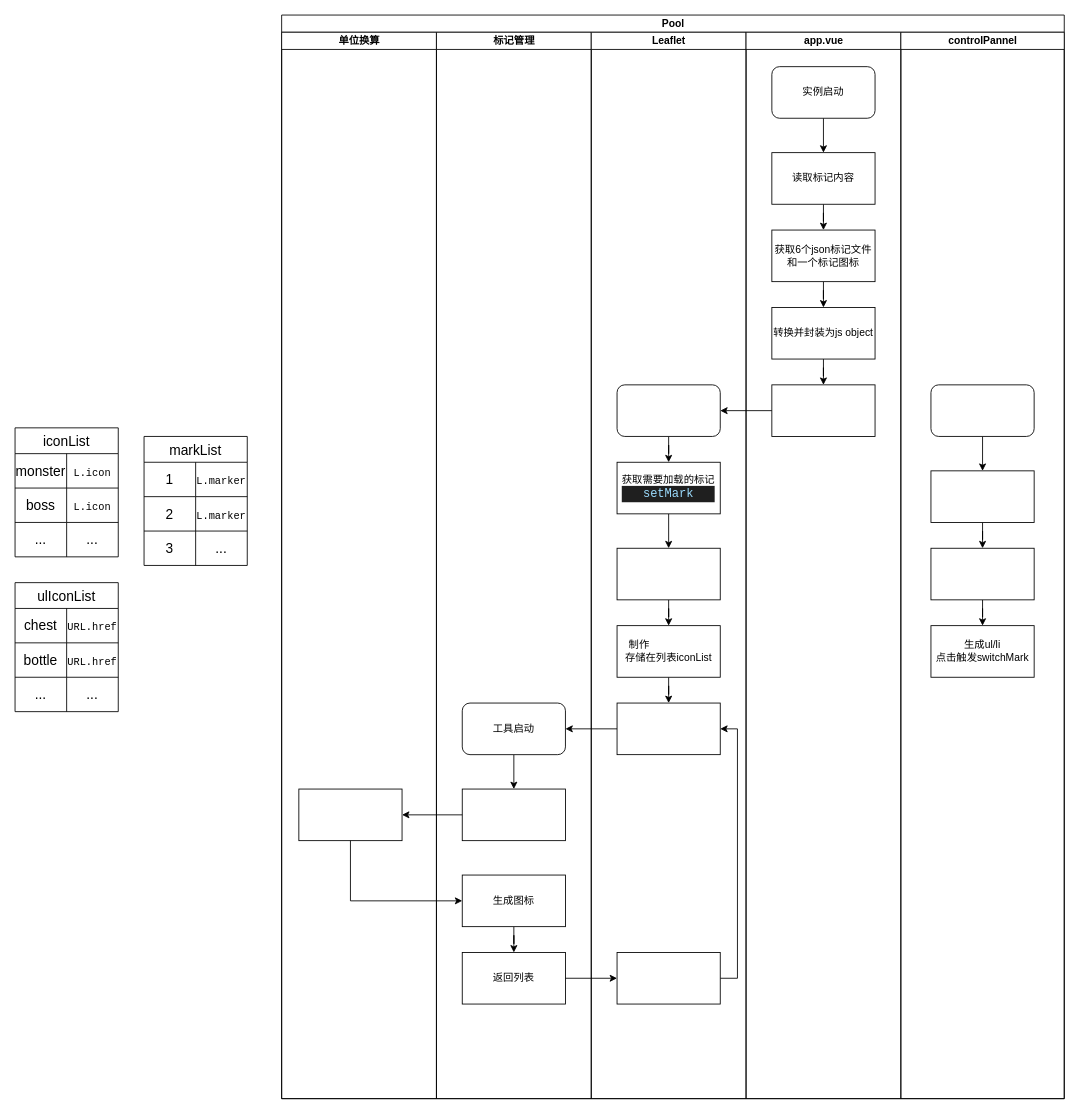
This 1079x1114 diagram has some shape labels left out. Each missing label, with the centre of its shape:
"leaflet启动" belongs at (x=668, y=410).
"传入参数处理" belongs at (x=513, y=814).
"像素转换经纬度" belongs at (x=350, y=814).
"动态加载所有图标" belongs at (x=668, y=573).
"动态路径获取所有图标，存储在ulIconList" belongs at (x=982, y=573).
"发送标记数据并启动leaflet,controlPannel" belongs at (x=823, y=410).
"接收图标并存储在列表markList" belongs at (x=668, y=978).
"控制面板启动" belongs at (x=982, y=410).
"显示所有图标内容" belongs at (x=668, y=728).
"获取标记" belongs at (x=982, y=496).
